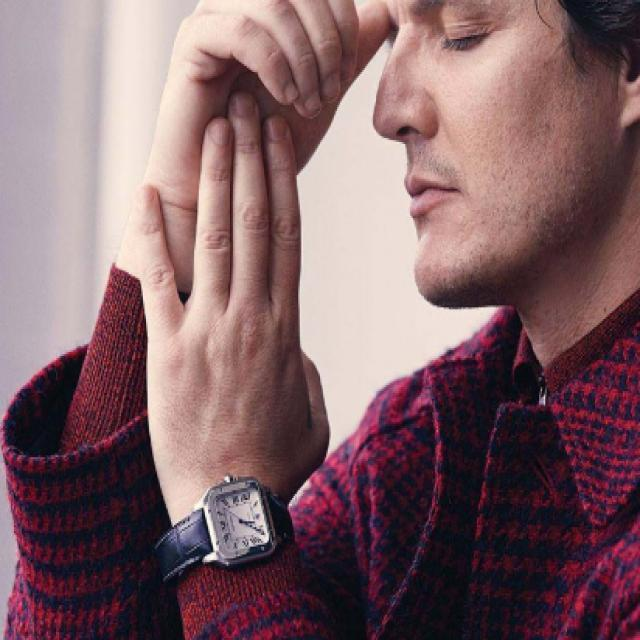Watch: (154, 473, 294, 577)
